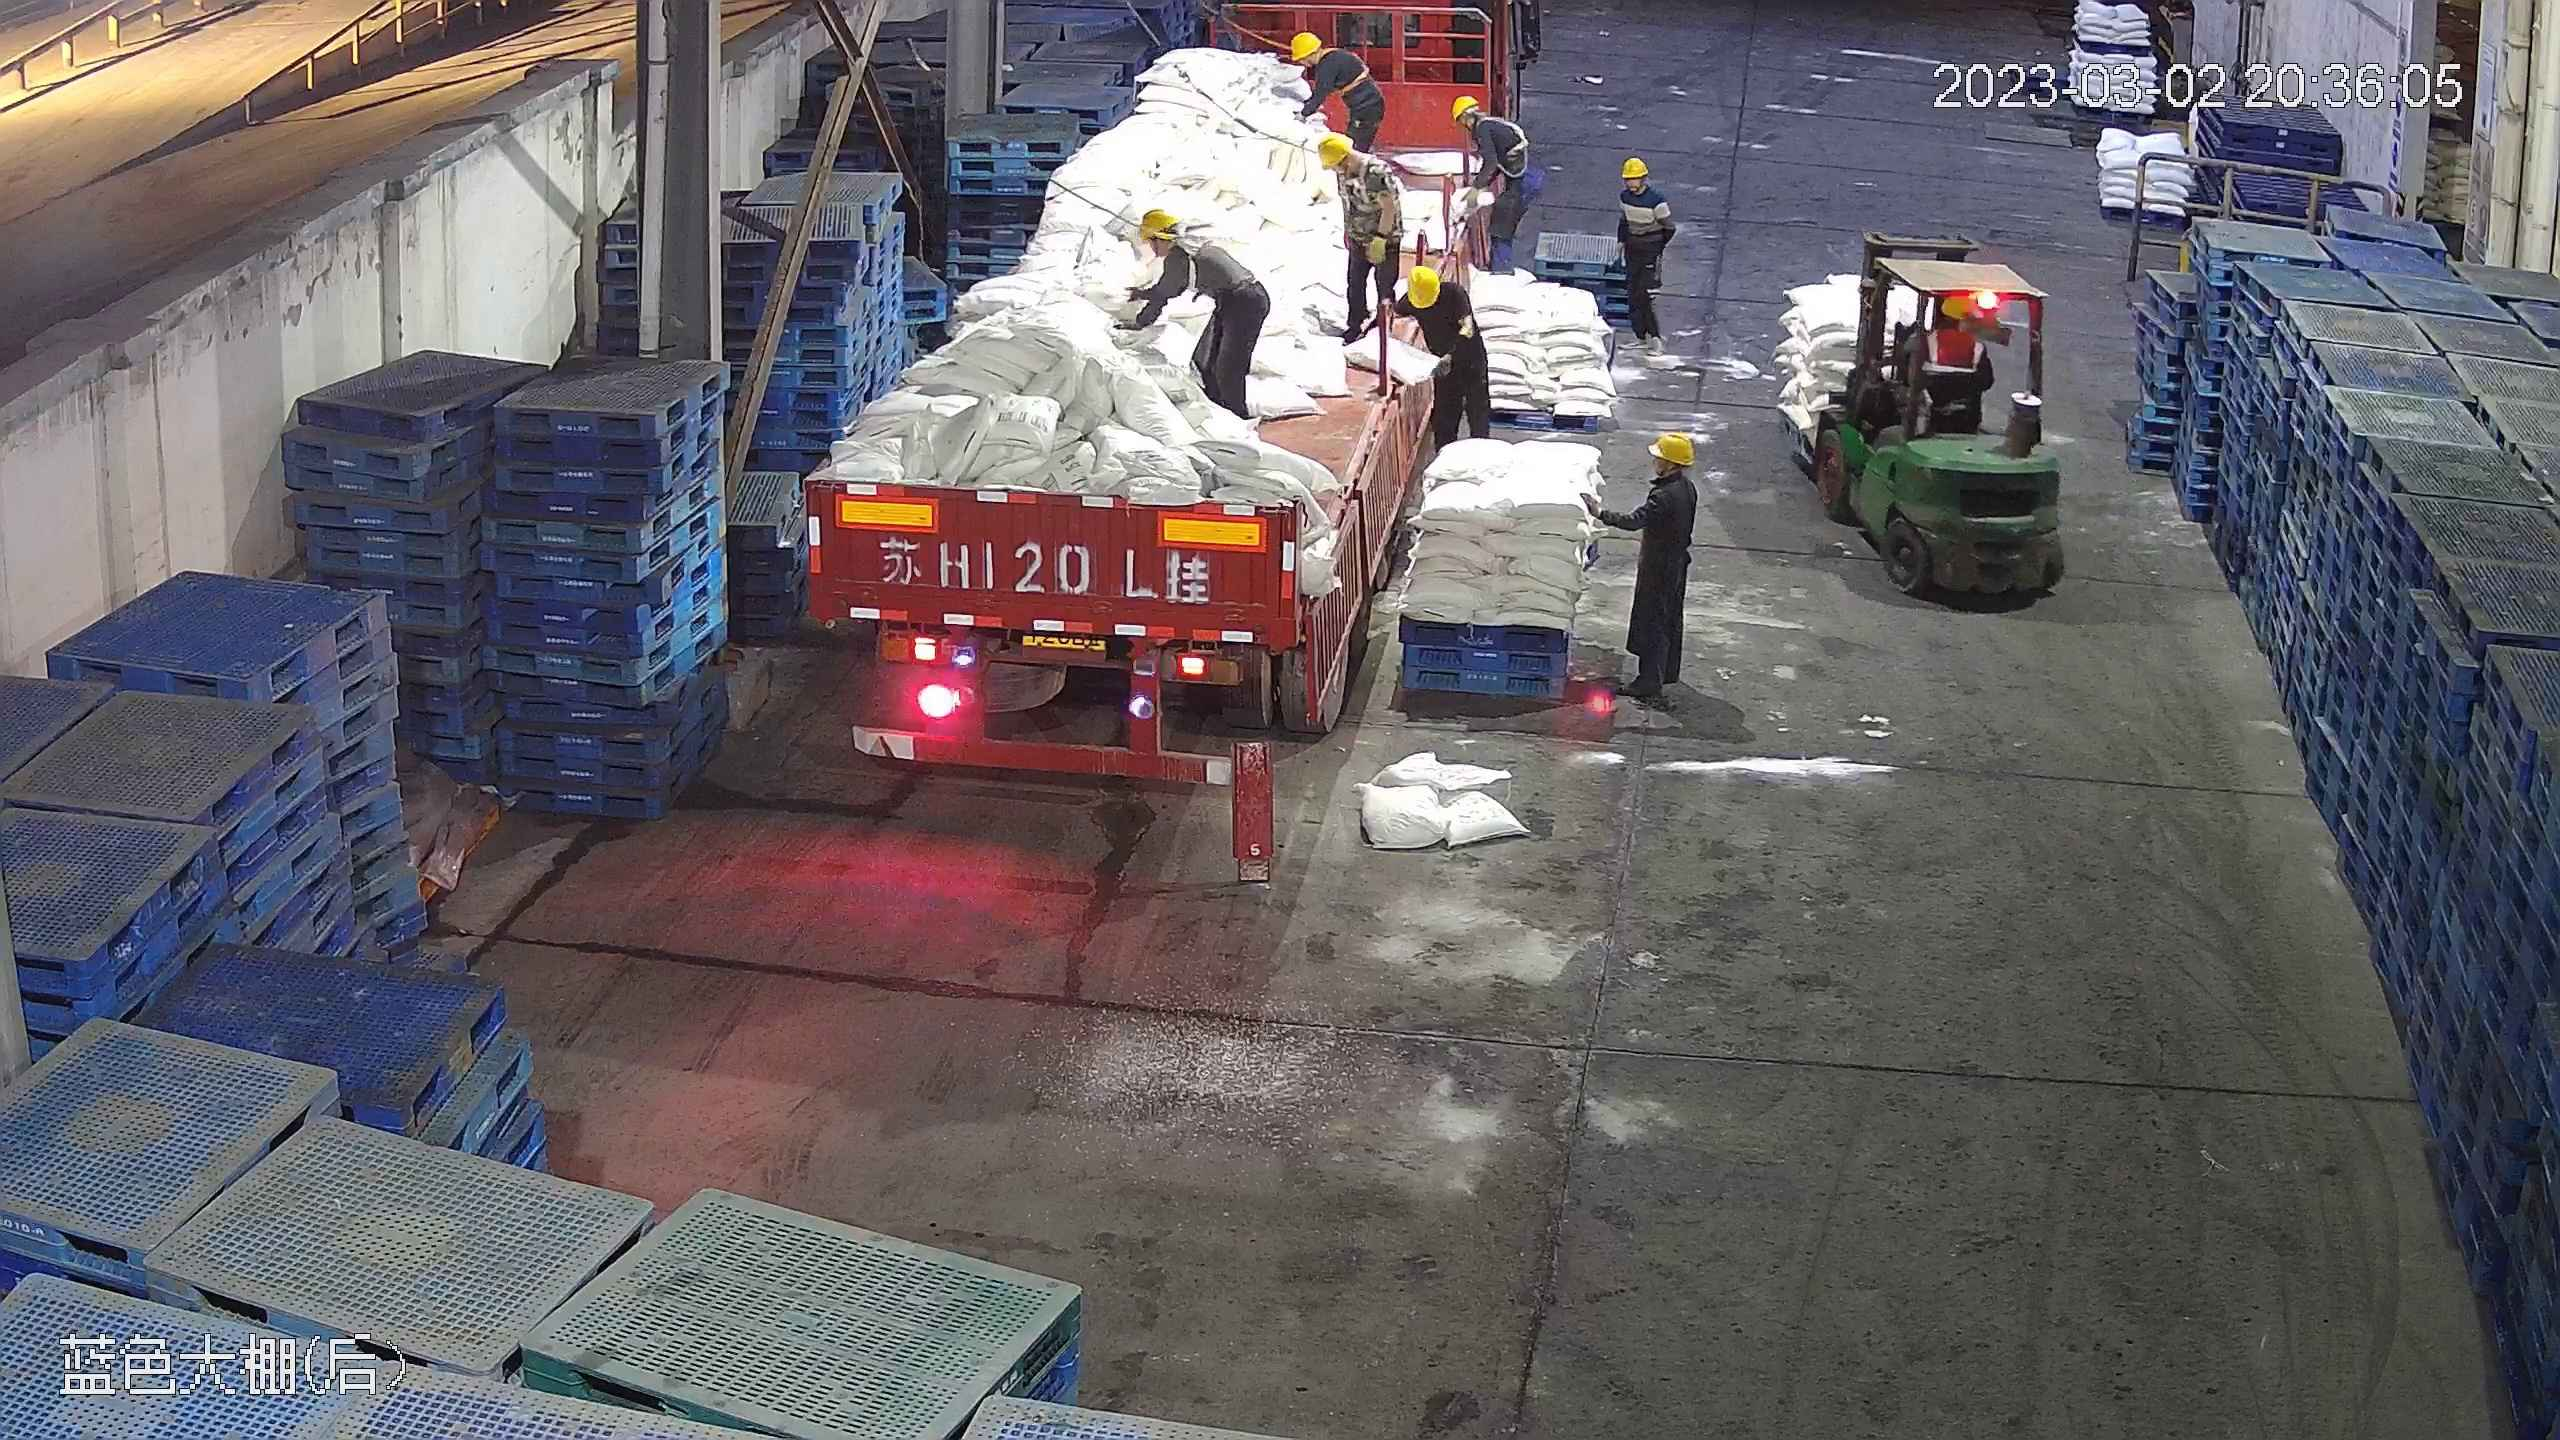belt: (1174, 231, 1239, 284), (1342, 163, 1400, 224), (1475, 112, 1529, 163), (1316, 43, 1368, 94)
head: (1132, 206, 1214, 283), (1395, 256, 1477, 331), (1637, 431, 1697, 516), (1318, 133, 1392, 196), (1447, 94, 1520, 152), (1612, 155, 1670, 214), (1285, 31, 1351, 84)
helmet: (1133, 206, 1181, 244), (1404, 262, 1443, 309), (1650, 430, 1695, 464), (1316, 131, 1357, 166), (1448, 94, 1480, 126), (1288, 29, 1321, 59), (1619, 156, 1648, 179)
people: (1114, 210, 1274, 418), (1605, 429, 1699, 704), (1385, 262, 1492, 453), (1315, 131, 1404, 346), (1446, 95, 1538, 279), (1612, 157, 1680, 355), (1288, 28, 1385, 151)
truck: (799, 6, 1470, 781)
